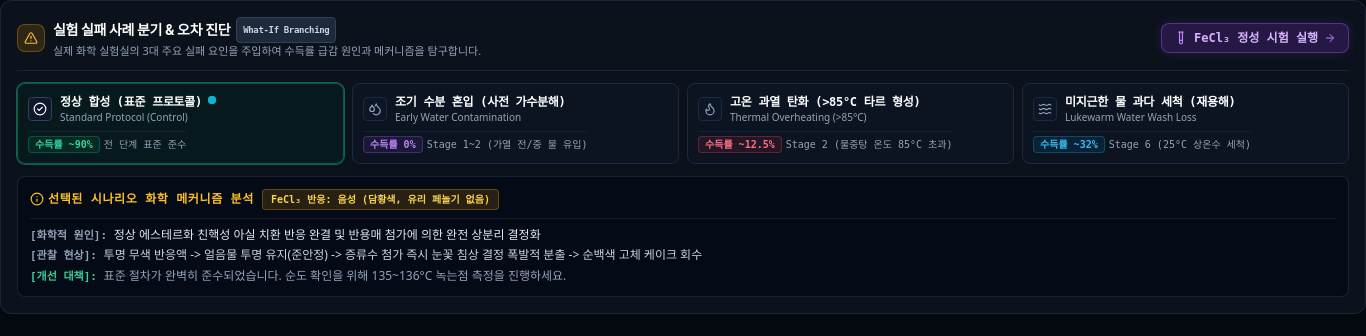
Test case: Milestone 4: Failure Branching Controls, FeCl3 Test Modal & Audio-Visual HUD › 2. FailureScenarioControl Component › switches failure mode to EARLY_WATER and updates state and mechanism
Step 1. Click the button with test id "failure-btn-EARLY_WATER" → coordinates (516, 123), box [352,82,679,164]
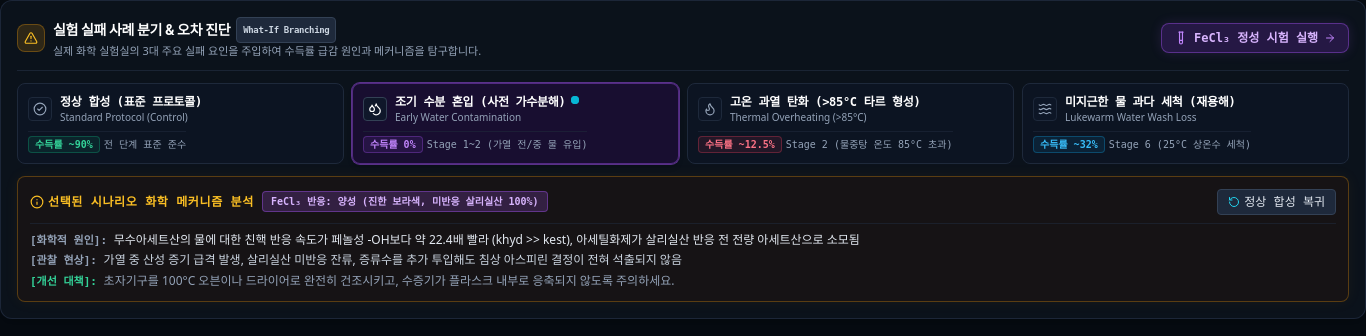
expect the text "조기 수분 혼입 (사전 가수분해)" is shown: met, box [395,94,565,110]
expect the text "FeCl₃ 반응: 양성 (진한 보라색, 미반응 살리실산 100%)" is shown: met, box [262,191,548,212]
expect the text "무수아세트산의 물에 대한 친핵 반응 속도가" is shown: met, box [114,230,860,248]
